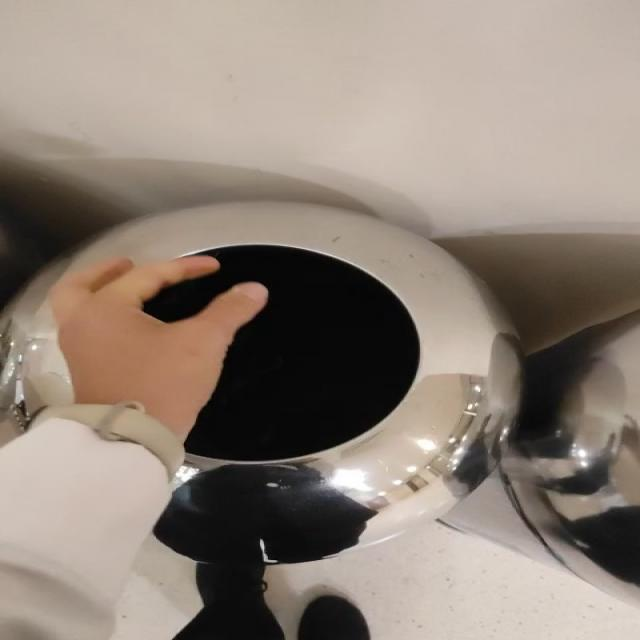bin: (1, 202, 521, 548)
